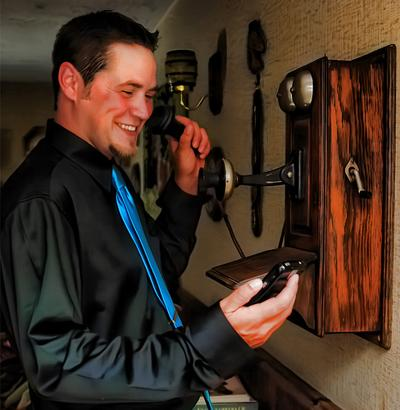person: (3, 11, 301, 410)
